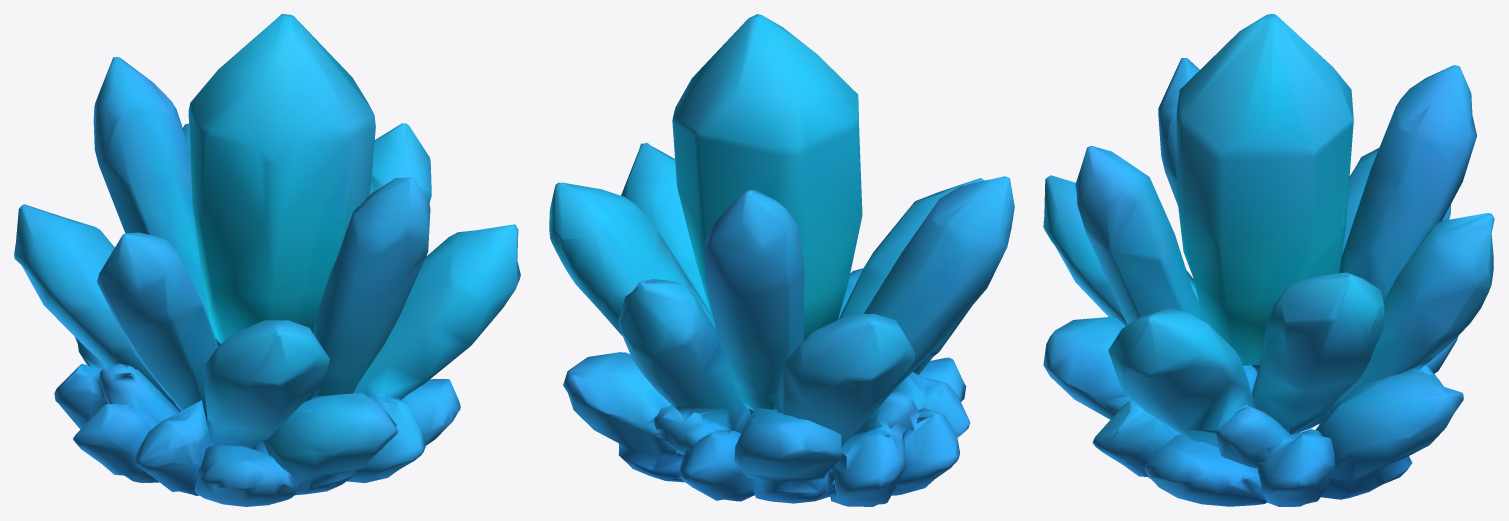
Rendered from item-crystal.glb.
3 renders of one model, left to right at view 1: azimuth 30°, elevation 25°; view 2: azimuth 150°, elevation 25°; view 3: azimuth 270°, elevation 25°, orthographic. The views are drawn at different scales.
Parts seen in each view (by area): view 1: tripo_node_89350dc3-d238-428f-ad74-9d9286ebbc79; view 2: tripo_node_89350dc3-d238-428f-ad74-9d9286ebbc79; view 3: tripo_node_89350dc3-d238-428f-ad74-9d9286ebbc79.
Boxes of the visible parts, box(x1,y1,x2,y2) form: tripo_node_89350dc3-d238-428f-ad74-9d9286ebbc79: box(14, 14, 520, 506); tripo_node_89350dc3-d238-428f-ad74-9d9286ebbc79: box(549, 14, 1014, 506); tripo_node_89350dc3-d238-428f-ad74-9d9286ebbc79: box(1043, 14, 1494, 506).
Size of the model in its own units: 0.9434 by 0.998 by 0.9121.
1 material, 1 textured.
